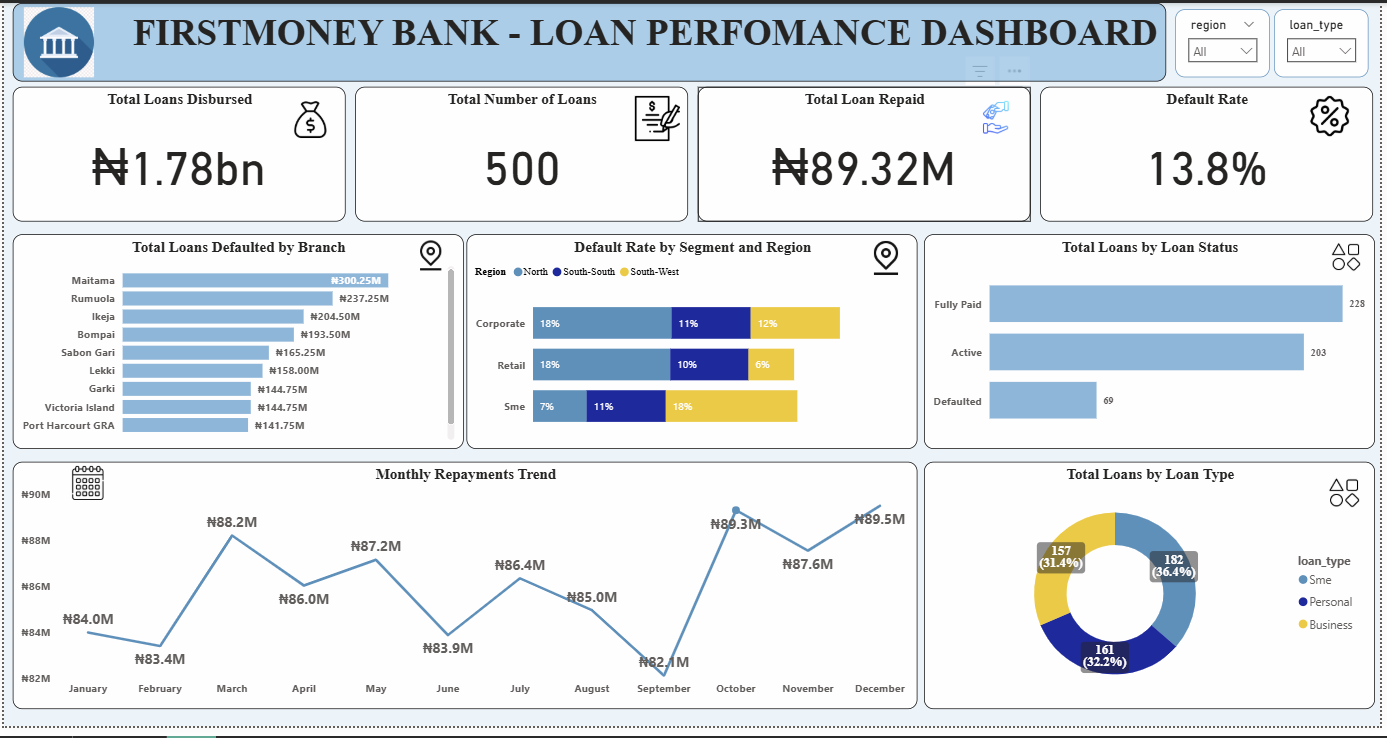

What the dashboard file says about the page in this screenshot:
{"tool":"powerbi","page":{"name":"Page 1","canvas":[1584,833],"ordinal":0},"visuals":[{"type":"card","title":"Total Loans Disbursed","fields":{"Values":["Measures_.Total Loans Disbursed"]},"box":[9.6,96.5,383,155],"z":0},{"type":"card","title":"Total Number of Loans","fields":{"Values":["Measures_.Total Number of Loans"]},"box":[404.1,96.5,383,155],"z":1000},{"type":"card","title":"Total Loan Repaid","fields":{"Values":["Measures_.Total Repayments Collected"]},"box":[798.6,96.5,383,155],"z":2000},{"type":"card","title":"Default Rate ","fields":{"Values":["Measures_.Default Rate %"]},"box":[1193.1,96.4,383,155],"z":3000},{"type":"clusteredBarChart","title":"Total Loans Defaulted by Branch","fields":{"Y":["Measures_.Total Loans Disbursed"],"Category":["branches.branch_name"]},"box":[10.2,266.6,519,247],"z":4000},{"type":"donutChart","title":"Total Loans by Loan Type","fields":{"Y":["Measures_.Total Number of Loans"],"Category":["loans.loan_type"]},"box":[1059.2,528.2,519.5,285],"z":5000},{"type":"clusteredBarChart","title":"Total Loans by Loan Status","fields":{"Y":["Measures_.Total Number of Loans"],"Category":["loans.loan_status"]},"box":[1059.2,266.3,519,247],"z":6000},{"type":"lineChart","title":"Monthly Repayments Trend","fields":{"Y":["Measures_.Total Repayments Collected"],"Category":["repayments.payment_date.Variation.Date Hierarchy.Month"]},"box":[10.1,528.2,1042,285],"z":7000},{"type":"barChart","title":"Default Rate by Segment and Region","fields":{"Y":["Measures_.Default Rate %"],"Category":["customers.customer_segment"],"Series":["branches.region"]},"box":[532.5,266.3,519.5,247.5],"z":8000},{"type":"slicer","fields":{"Values":["branches.region"]},"box":[1348.5,7.2,109,78],"z":9000},{"type":"slicer","fields":{"Values":["loans.loan_type"]},"box":[1462.2,7.2,109,78],"z":10000},{"type":"textbox","box":[10.1,0,1328.4,90.7],"z":11000},{"type":"image","box":[10.1,0,106.5,90.7],"z":13000},{"type":"image","box":[326.7,105.1,51.8,59],"z":14000},{"type":"image","box":[1482.5,101.9,88.3,56],"z":15000},{"type":"image","box":[1113.9,105.1,56.1,53.3],"z":16000},{"type":"image","box":[716.7,102.2,70.5,61.9],"z":17000},{"type":"image","box":[978.7,266.3,73.4,54.7],"z":18000},{"type":"image","box":[1516.9,535.4,51.8,57.6],"z":19000},{"type":"image","box":[1519.8,266.6,50.9,52.6],"z":20000},{"type":"image","box":[63.3,528.2,66.2,48.9],"z":21000},{"type":"image","box":[453.3,266.3,76.3,48.9],"z":22000}]}

Visuals, with their boxes in screenshot pixels (x1, y1, x2, y2), scaled from the page's 1584x833 canvas onto the 1387x738 screenshot:
"Total Loans Disbursed" card: 8 85 344 223
"Total Number of Loans" card: 354 85 689 223
"Total Loan Repaid" card: 699 85 1035 223
"Default Rate " card: 1045 85 1380 223
"Total Loans Defaulted by Branch" clusteredBarChart: 9 236 463 455
"Total Loans by Loan Type" donutChart: 927 468 1382 720
"Total Loans by Loan Status" clusteredBarChart: 927 236 1382 455
"Monthly Repayments Trend" lineChart: 9 468 921 720
"Default Rate by Segment and Region" barChart: 466 236 921 455
slicer - branches.region: 1181 6 1276 75
slicer - loans.loan_type: 1280 6 1376 75
textbox: 9 0 1172 80
image: 9 0 102 80
image: 286 93 331 145
image: 1298 90 1375 140
image: 975 93 1024 140
image: 628 91 689 145
image: 857 236 921 284
image: 1328 474 1374 525
image: 1331 236 1375 283
image: 55 468 113 511
image: 397 236 464 279
